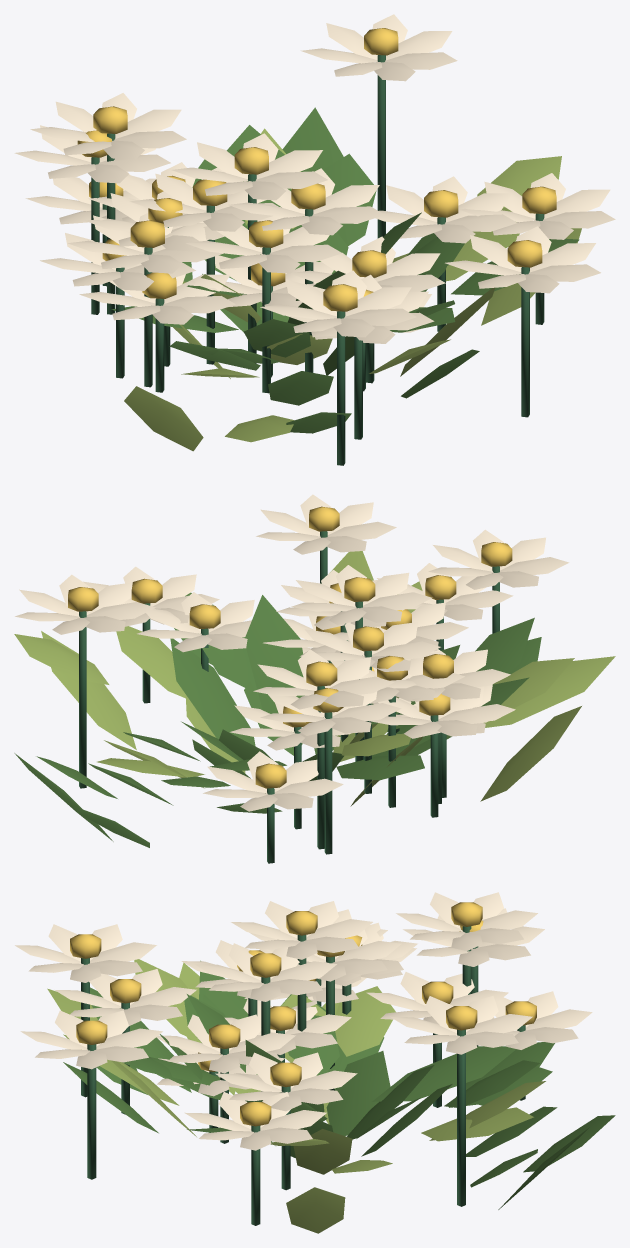
The model's file is bush_flower_white.glb.
The picture shows the model from 3 angles, top to bottom: view 1: azimuth 30°, elevation 25°; view 2: azimuth 150°, elevation 25°; view 3: azimuth 270°, elevation 25°; orthographic projection. The views are drawn at different scales.
Parts seen in each view (by area): view 1: bush_flower_white; view 2: bush_flower_white; view 3: bush_flower_white.
Part boxes in pixels (bbox=[...]): bush_flower_white: bbox=[14, 14, 615, 465]; bush_flower_white: bbox=[14, 494, 615, 863]; bush_flower_white: bbox=[15, 892, 615, 1233].
Bounding box in the file's own units: 1.23 × 0.5681 × 1.35.
